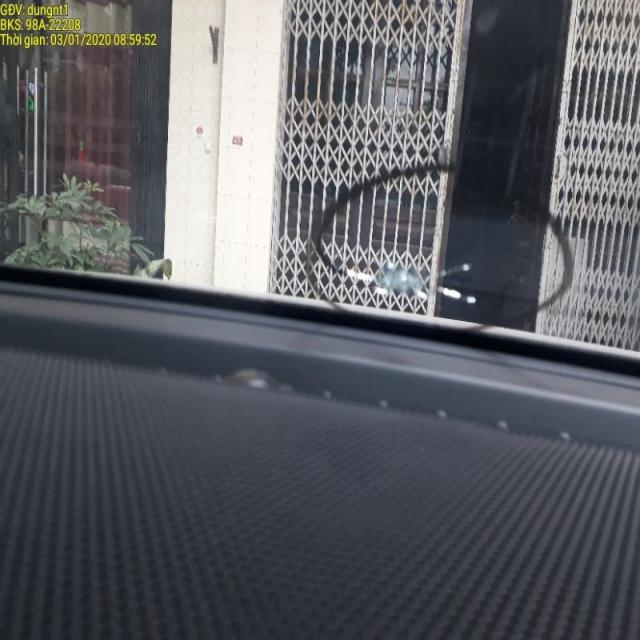Fissure: (338, 249, 461, 313)
